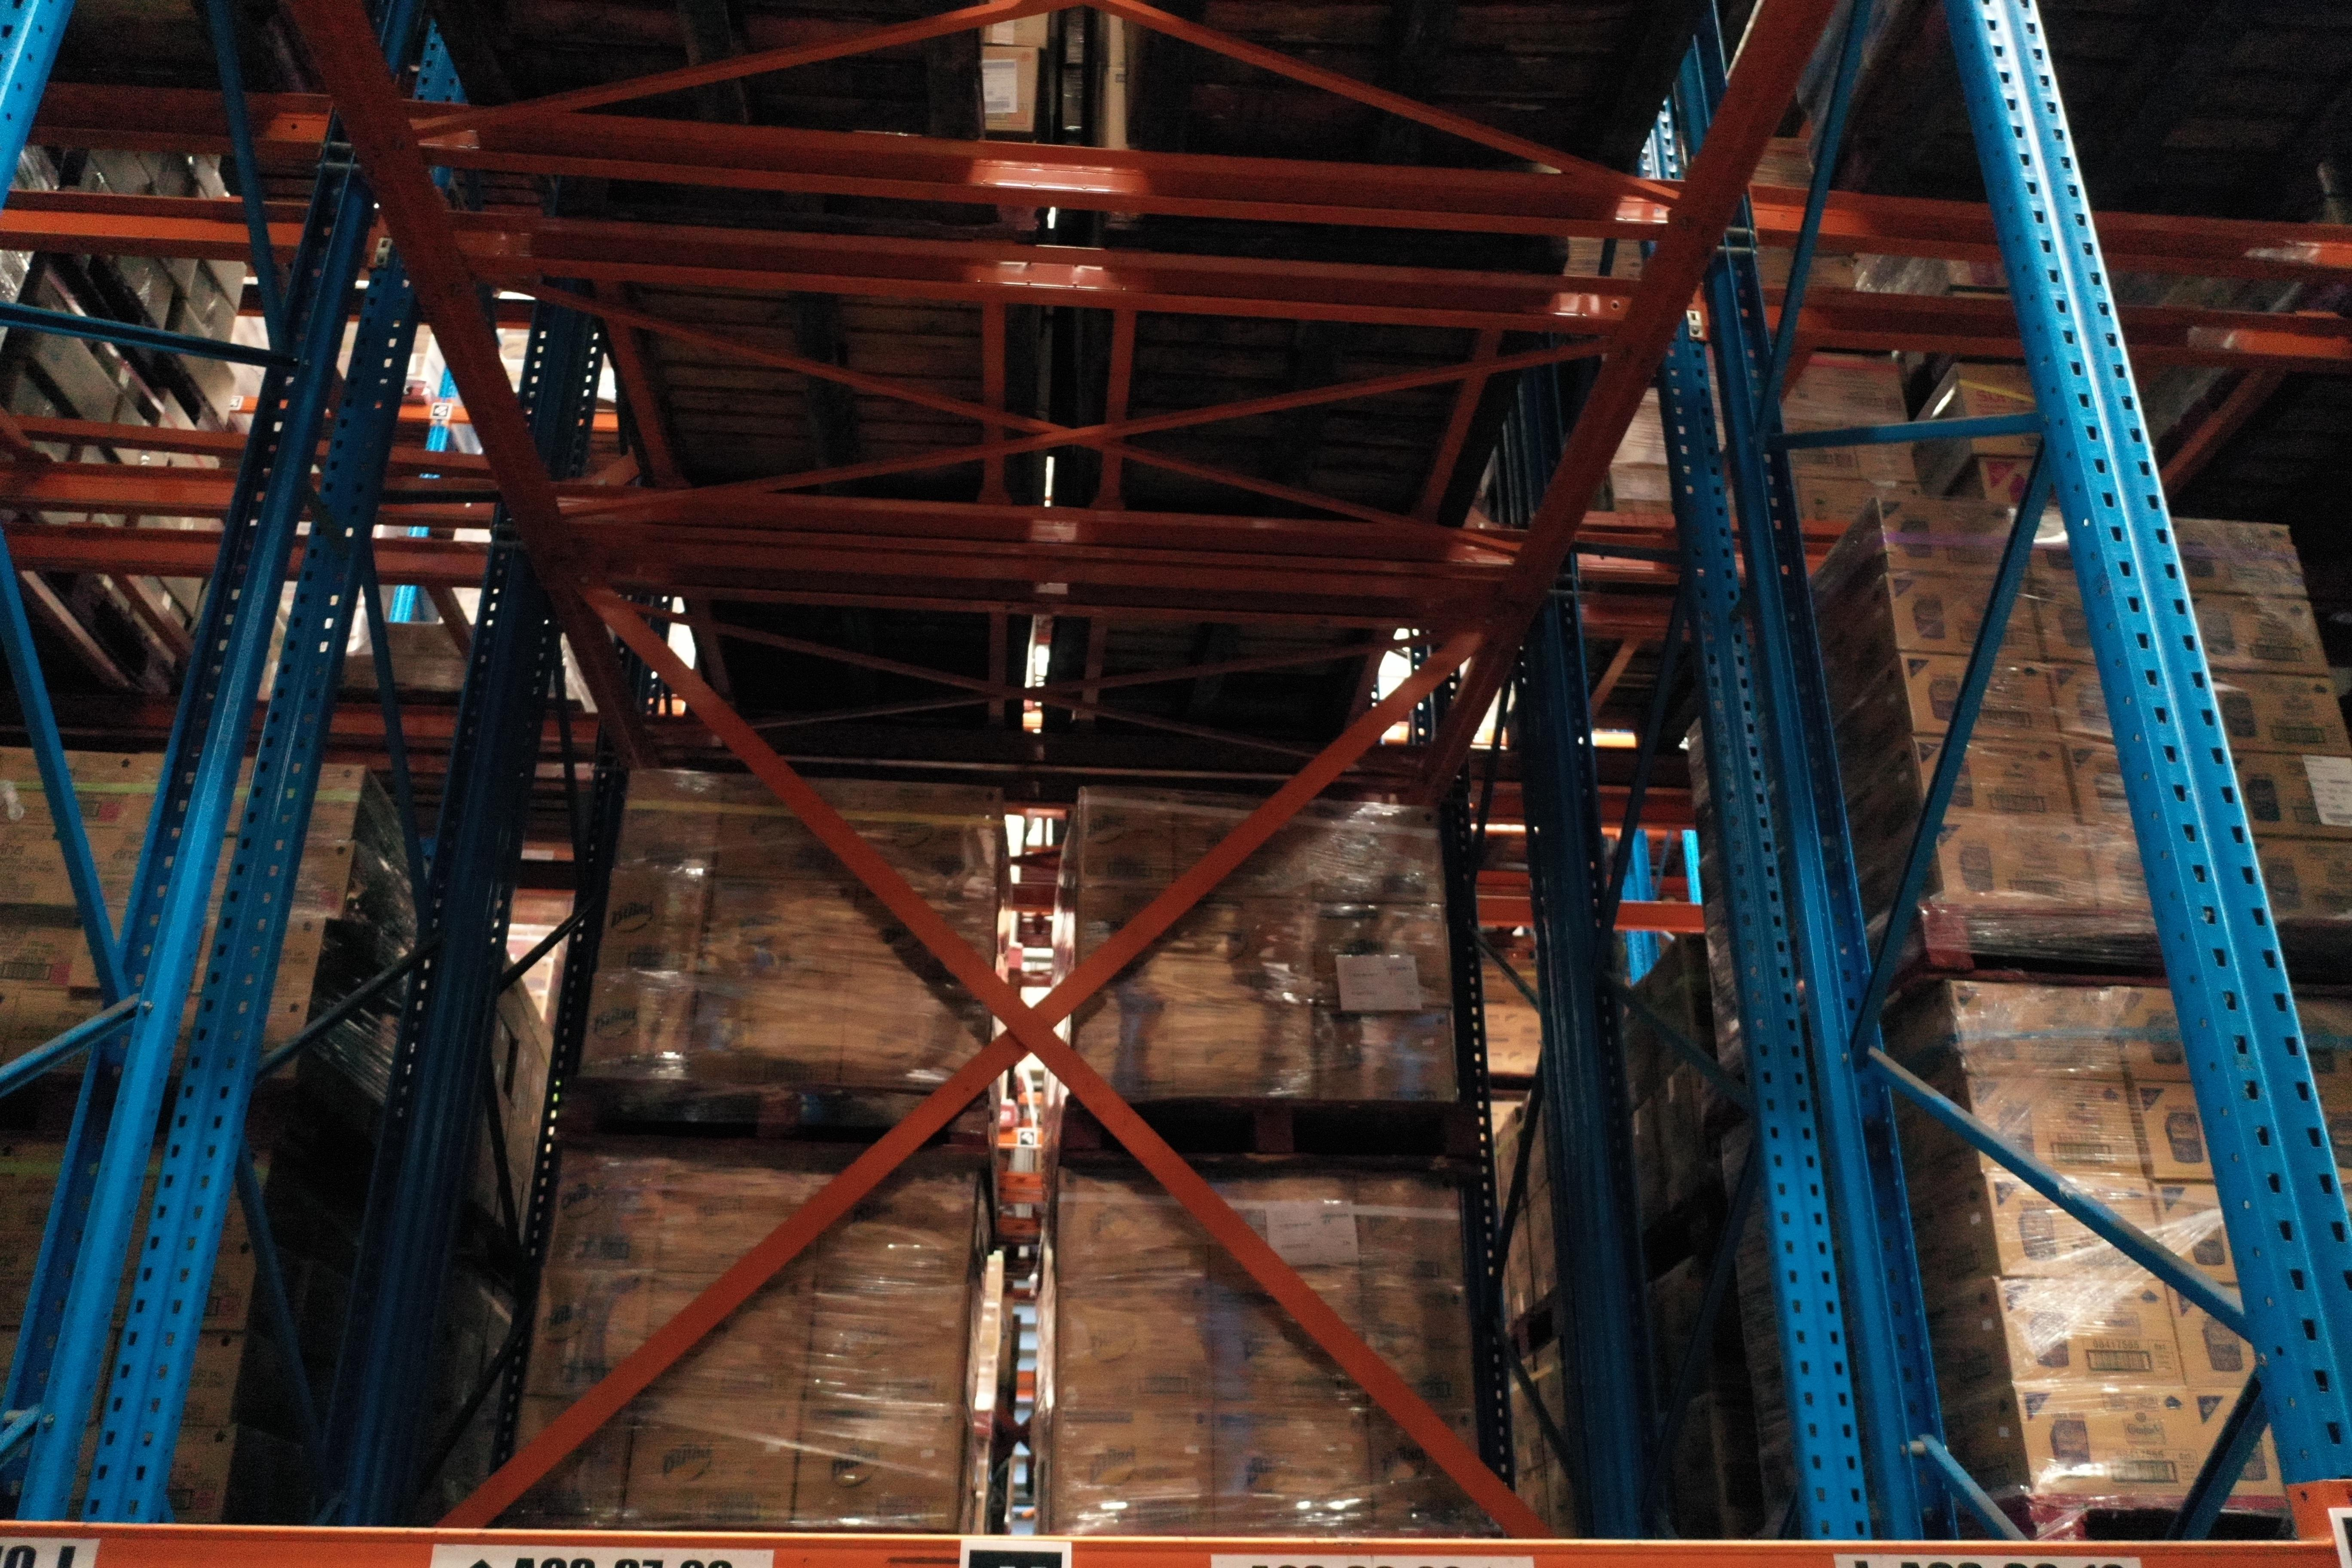2: (639, 1267, 819, 1405), (621, 1395, 803, 1531), (654, 1136, 831, 1274), (817, 1141, 980, 1284), (1050, 1403, 1218, 1538), (791, 1398, 961, 1531), (803, 1274, 969, 1405), (1214, 1405, 1374, 1538), (1211, 1283, 1370, 1412), (1059, 1279, 1214, 1409), (1062, 1157, 1214, 1286), (696, 873, 861, 990), (1211, 1160, 1361, 1288), (500, 1391, 639, 1529), (686, 973, 849, 1090), (849, 880, 997, 1003), (525, 1263, 656, 1402), (546, 1134, 679, 1269), (712, 772, 870, 884), (859, 779, 1003, 894), (842, 987, 992, 1092), (1365, 1407, 1486, 1535), (1312, 898, 1452, 1006), (1176, 894, 1314, 1003), (1176, 794, 1314, 901), (1361, 1283, 1475, 1410), (1172, 1003, 1319, 1099), (1314, 1004, 1458, 1102), (577, 969, 700, 1081), (1312, 801, 1445, 903), (595, 864, 714, 976), (1356, 1169, 1466, 1284), (618, 768, 728, 875), (1074, 887, 1176, 999), (1069, 999, 1176, 1099), (1080, 787, 1176, 894)
box: (1991, 1274, 2187, 1389), (2012, 1382, 2210, 1496), (1983, 1171, 2175, 1286), (1965, 1073, 2147, 1179), (1949, 978, 2126, 1080), (1911, 731, 2077, 829), (1899, 653, 2061, 742), (1885, 572, 2042, 663), (1930, 826, 2100, 908), (1872, 495, 2030, 581), (2205, 668, 2352, 758), (2186, 593, 2331, 677), (2187, 1386, 2289, 1500), (2163, 1281, 2264, 1388), (2229, 751, 2352, 838), (2170, 521, 2308, 598), (2151, 1181, 2242, 1284), (2252, 835, 2352, 922), (2131, 1080, 2215, 1181), (2109, 987, 2193, 1083), (2042, 661, 2117, 747), (2063, 740, 2131, 829), (2026, 579, 2098, 663), (2082, 824, 2151, 908), (2007, 507, 2081, 584)
